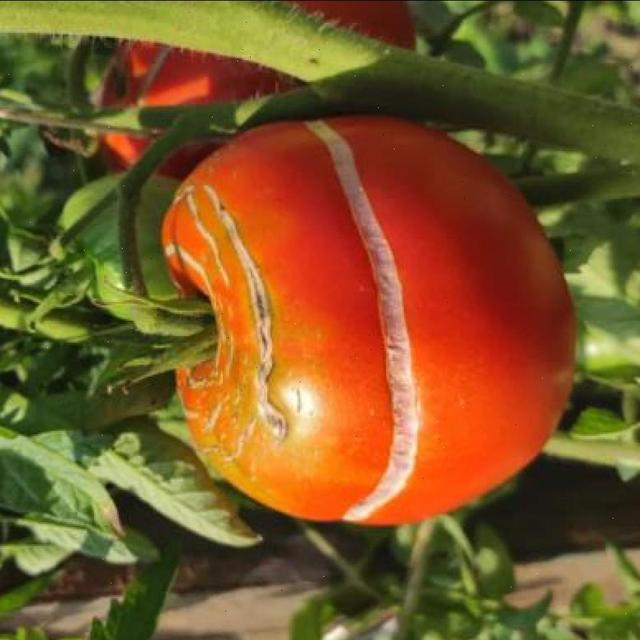Cracking Fruit: (71, 215, 248, 278)
